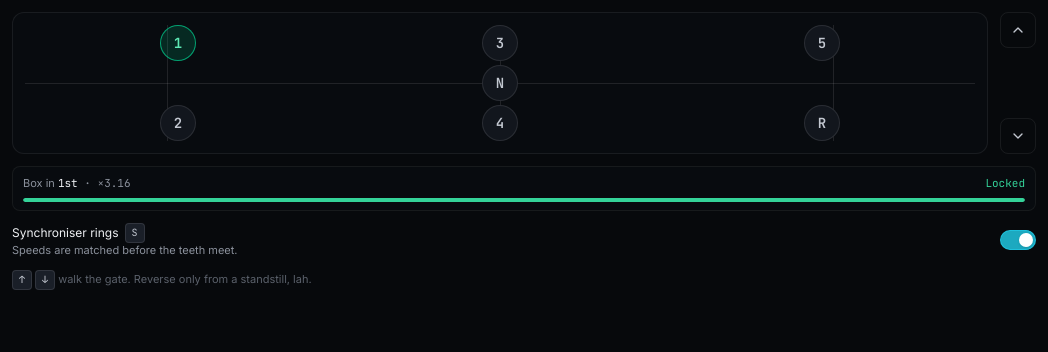
GearSelector › lays out the gate, moves the lever, and refuses reverse while rolling
The width and height of the screenshot is (1048, 352).
Expected: the element named "gear" is shown, [12,12,988,154]
Expected: the radio button named "1st" is checked, [160,25,196,61]
Click the radio button named "3rd". click: [500, 43]
box: [482,25,518,61]
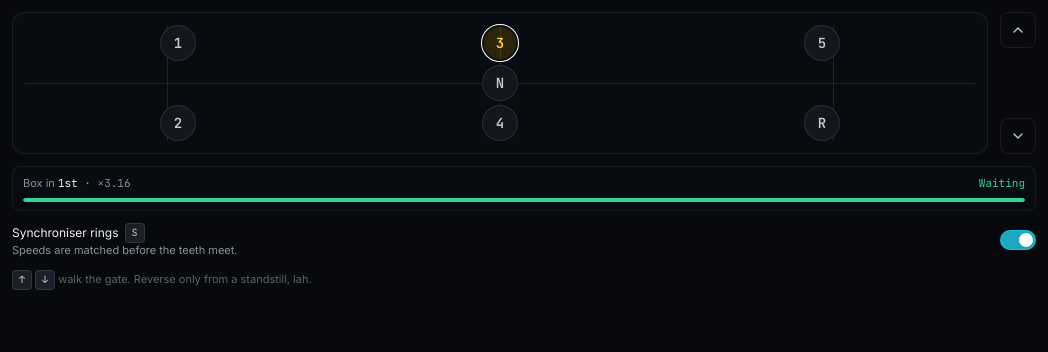
Now the radio button named "3rd" is checked, box [482,25,518,61]
Click the radio button named "Reverse". click: [822, 123]
box: [804,105,840,141]
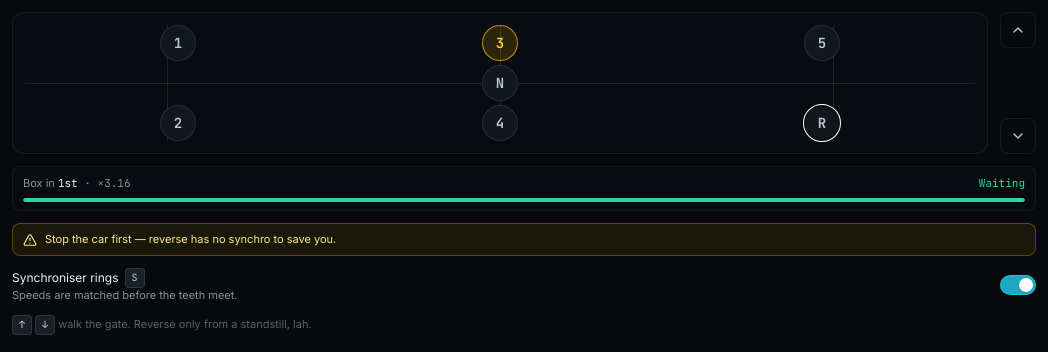
Now the message shows "Stop the car", box [45,232,336,246]
